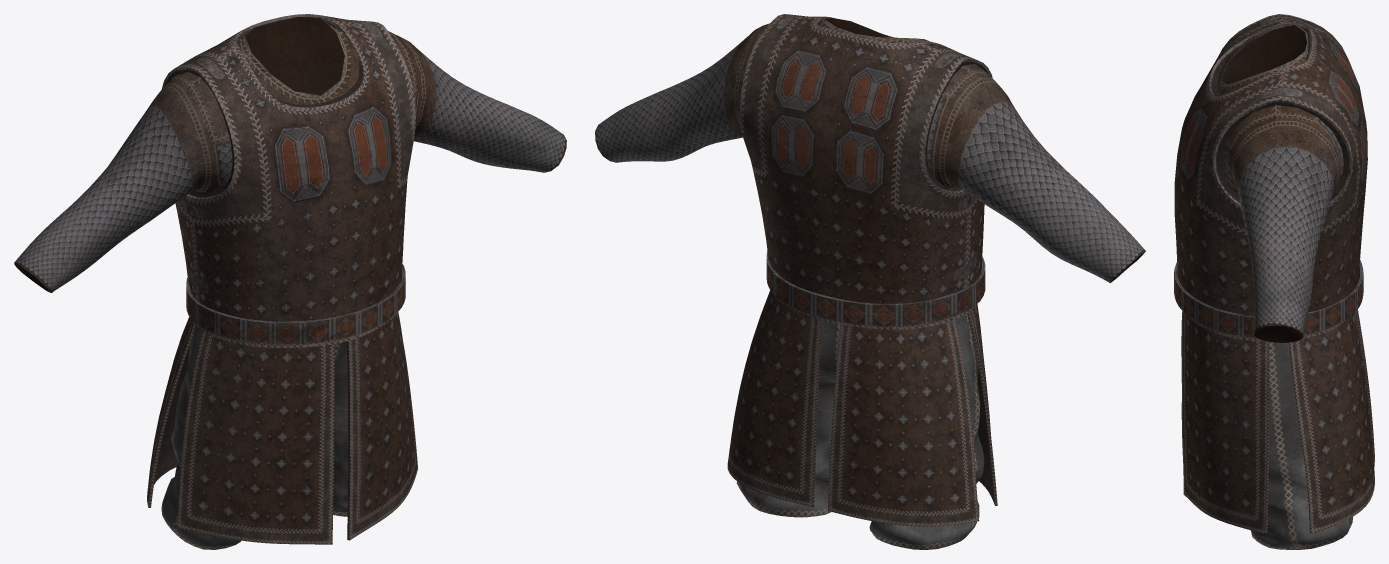
The model's file is sk_dwarf_iron_chest_heavy_a.fbx.
The picture shows the model from 3 angles, left to right: view 1: azimuth 30°, elevation 25°; view 2: azimuth 150°, elevation 25°; view 3: azimuth 270°, elevation 25°; orthographic projection. The views are drawn at different scales.
Parts seen in each view (by area): view 1: sk_dwarf_iron_chest_heavy_a.1, sk_dwarf_iron_chest_heavy_a.2, sk_dwarf_iron_chest_heavy_a.0; view 2: sk_dwarf_iron_chest_heavy_a.1, sk_dwarf_iron_chest_heavy_a.2, sk_dwarf_iron_chest_heavy_a.0; view 3: sk_dwarf_iron_chest_heavy_a.1, sk_dwarf_iron_chest_heavy_a.2, sk_dwarf_iron_chest_heavy_a.0.
Part boxes in pixels (box(x1,y1,x2,y2)): sk_dwarf_iron_chest_heavy_a.1: box(147, 14, 417, 544); sk_dwarf_iron_chest_heavy_a.2: box(14, 17, 566, 292); sk_dwarf_iron_chest_heavy_a.0: box(161, 322, 348, 549); sk_dwarf_iron_chest_heavy_a.1: box(727, 14, 997, 526); sk_dwarf_iron_chest_heavy_a.2: box(595, 18, 1145, 283); sk_dwarf_iron_chest_heavy_a.0: box(736, 314, 984, 549); sk_dwarf_iron_chest_heavy_a.1: box(1174, 14, 1374, 533); sk_dwarf_iron_chest_heavy_a.2: box(1217, 25, 1343, 342); sk_dwarf_iron_chest_heavy_a.0: box(1251, 342, 1352, 549).
Bounding box in the file's own units: 1.17 × 0.3958 × 1.02.
Materials: 3 (3 with a texture image).
